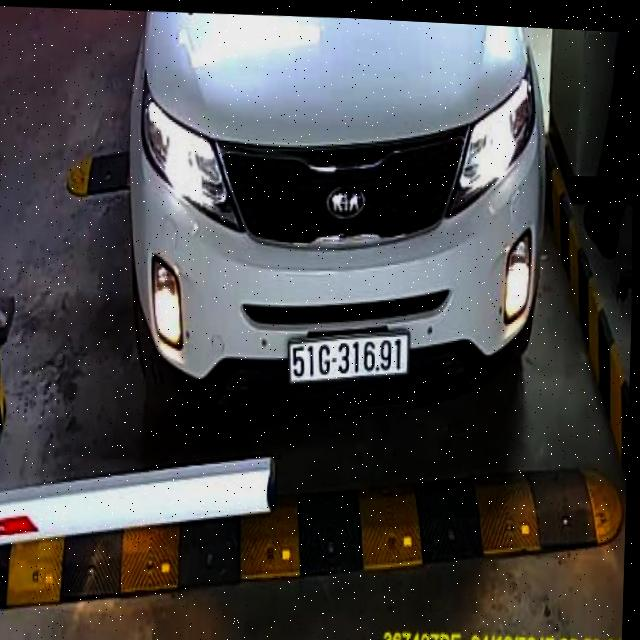car: (111, 6, 556, 425)
plate: (286, 328, 411, 392)
